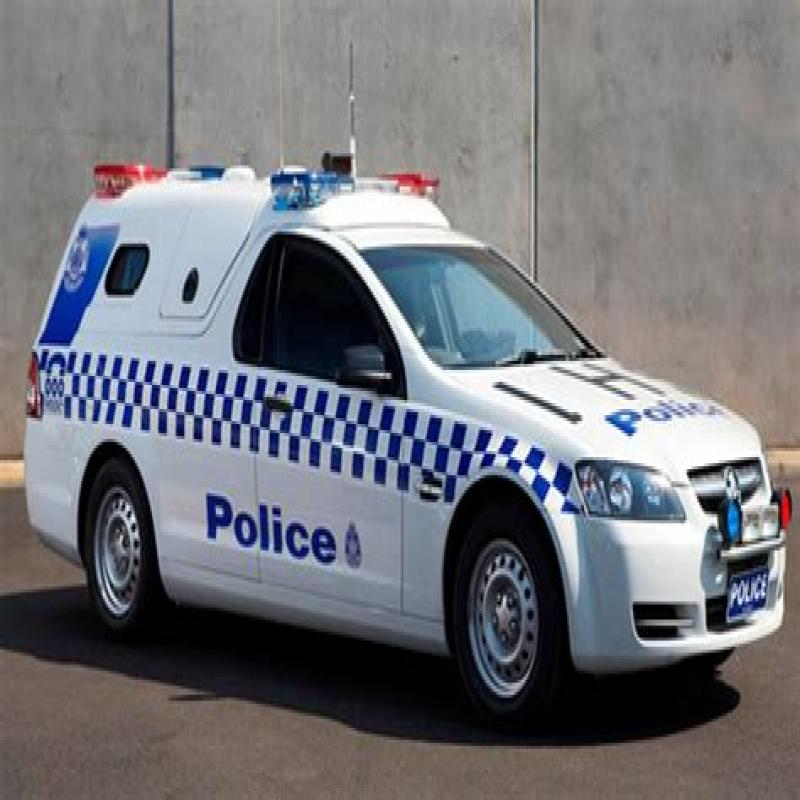AmbulanceSiren: (277, 171, 455, 216)
car: (5, 193, 782, 684)
